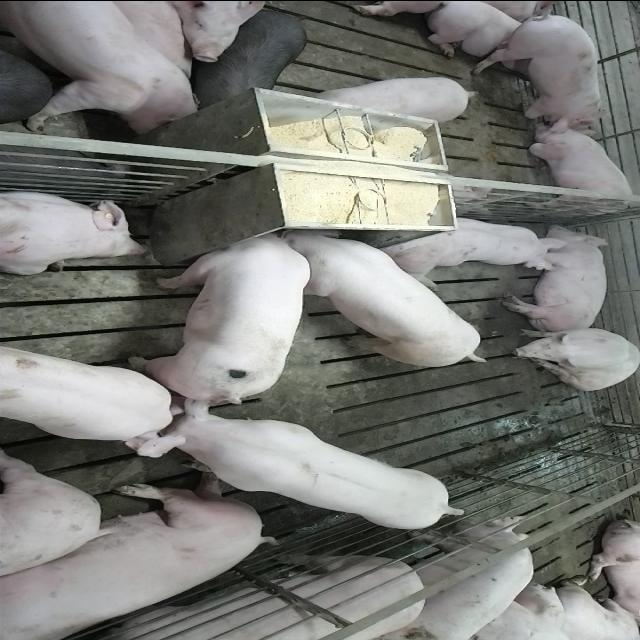Feeding: (126, 221, 312, 397), (281, 229, 496, 371)
Lateral_lying: (500, 222, 613, 332)
Sitting: (516, 124, 640, 218), (503, 325, 637, 389)
Standing: (124, 394, 468, 530), (40, 552, 434, 640), (0, 2, 201, 134), (0, 338, 176, 449), (386, 520, 540, 640), (474, 14, 613, 130), (193, 8, 309, 104), (310, 70, 480, 120)
Sternal_lying: (0, 187, 151, 275), (380, 210, 566, 280), (428, 1, 558, 74)
